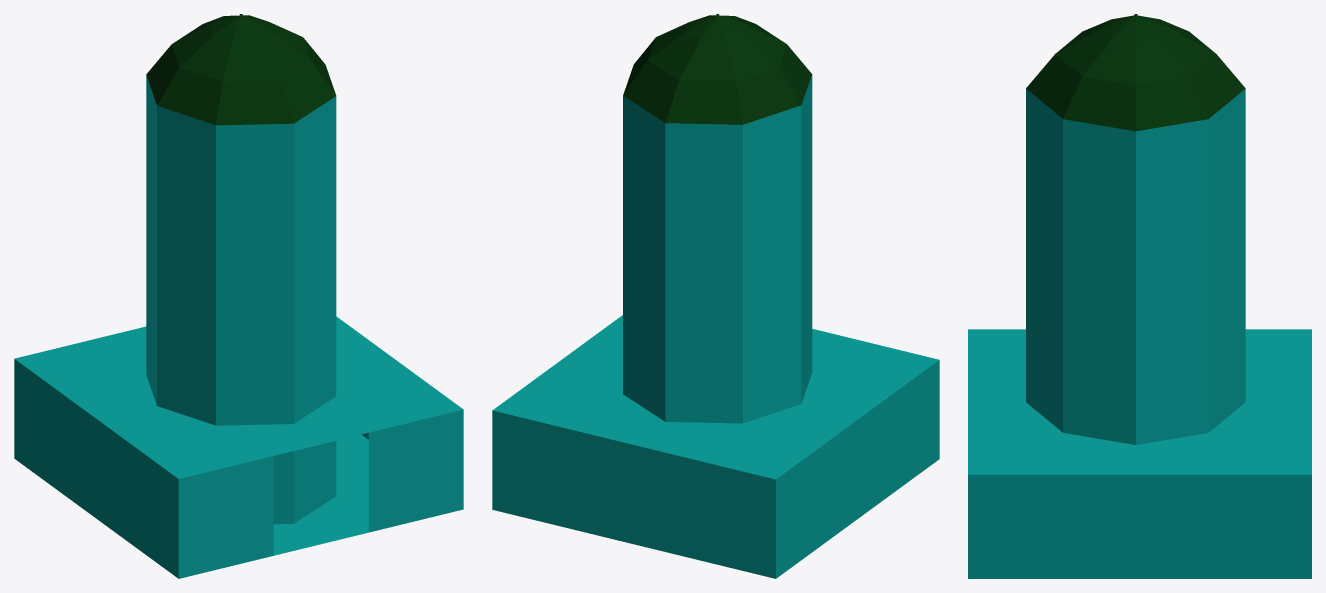
The model's file is stockpile1f.obj.
3 views of the same model, side by side, from view 1: azimuth 30°, elevation 25°; view 2: azimuth 150°, elevation 25°; view 3: azimuth 270°, elevation 25° (orthographic). The views are drawn at different scales.
Visible parts, largest first — view 1: Cube.001, Cube; view 2: Cube.001, Cube; view 3: Cube.001, Cube.
Boxes of the visible parts, x1=… form: Cube.001: x1=146, y1=14, x2=336, y2=524; Cube: x1=14, y1=316, x2=463, y2=578; Cube.001: x1=623, y1=14, x2=812, y2=423; Cube: x1=492, y1=315, x2=939, y2=578; Cube.001: x1=1026, y1=14, x2=1245, y2=444; Cube: x1=968, y1=329, x2=1311, y2=578.
Size of the model in its own units: 8.67 by 13.77 by 8.67.
